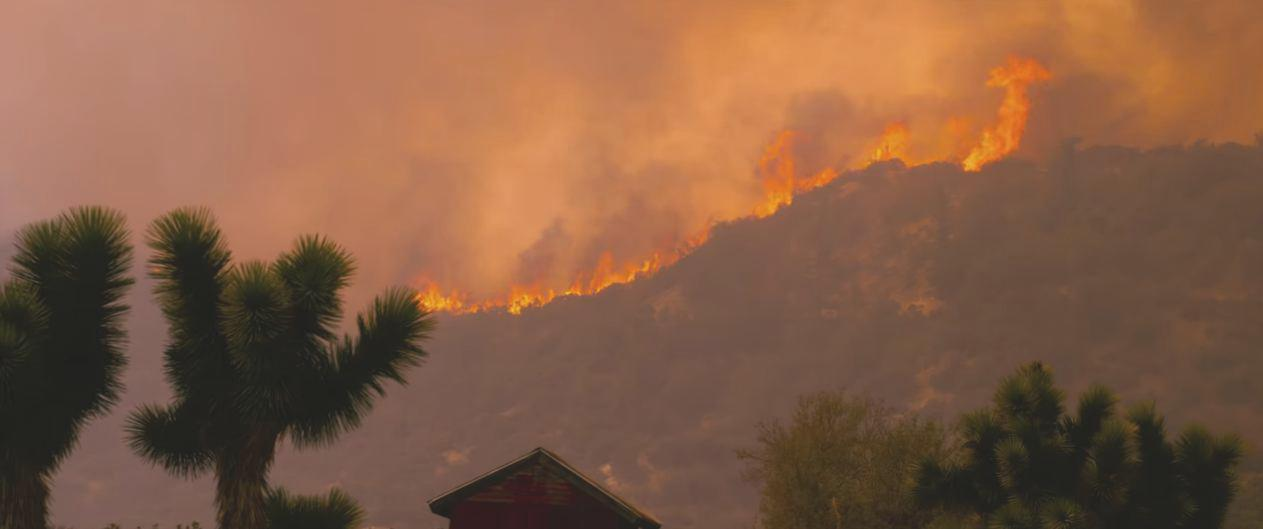Fire: (379, 231, 713, 322), (746, 124, 946, 223), (953, 49, 1058, 180)
